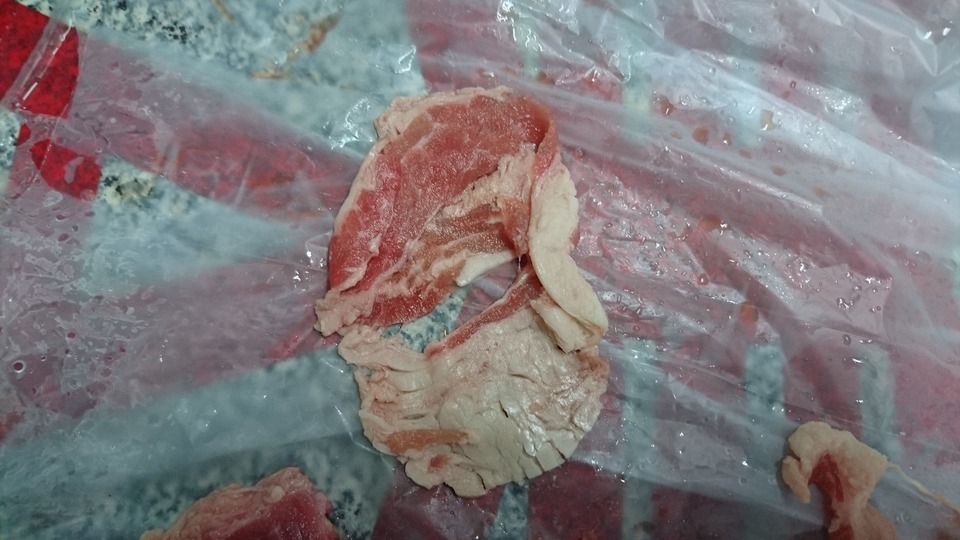restructured meat: (323, 88, 616, 499)
